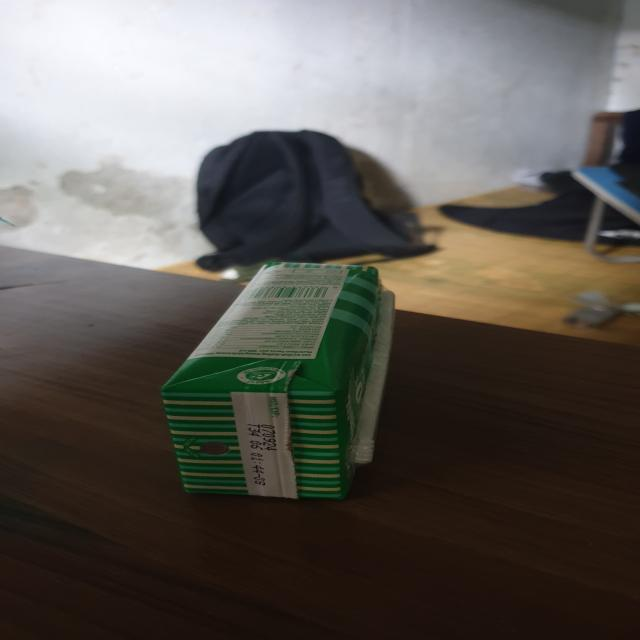Vina: (158, 262, 395, 505)
